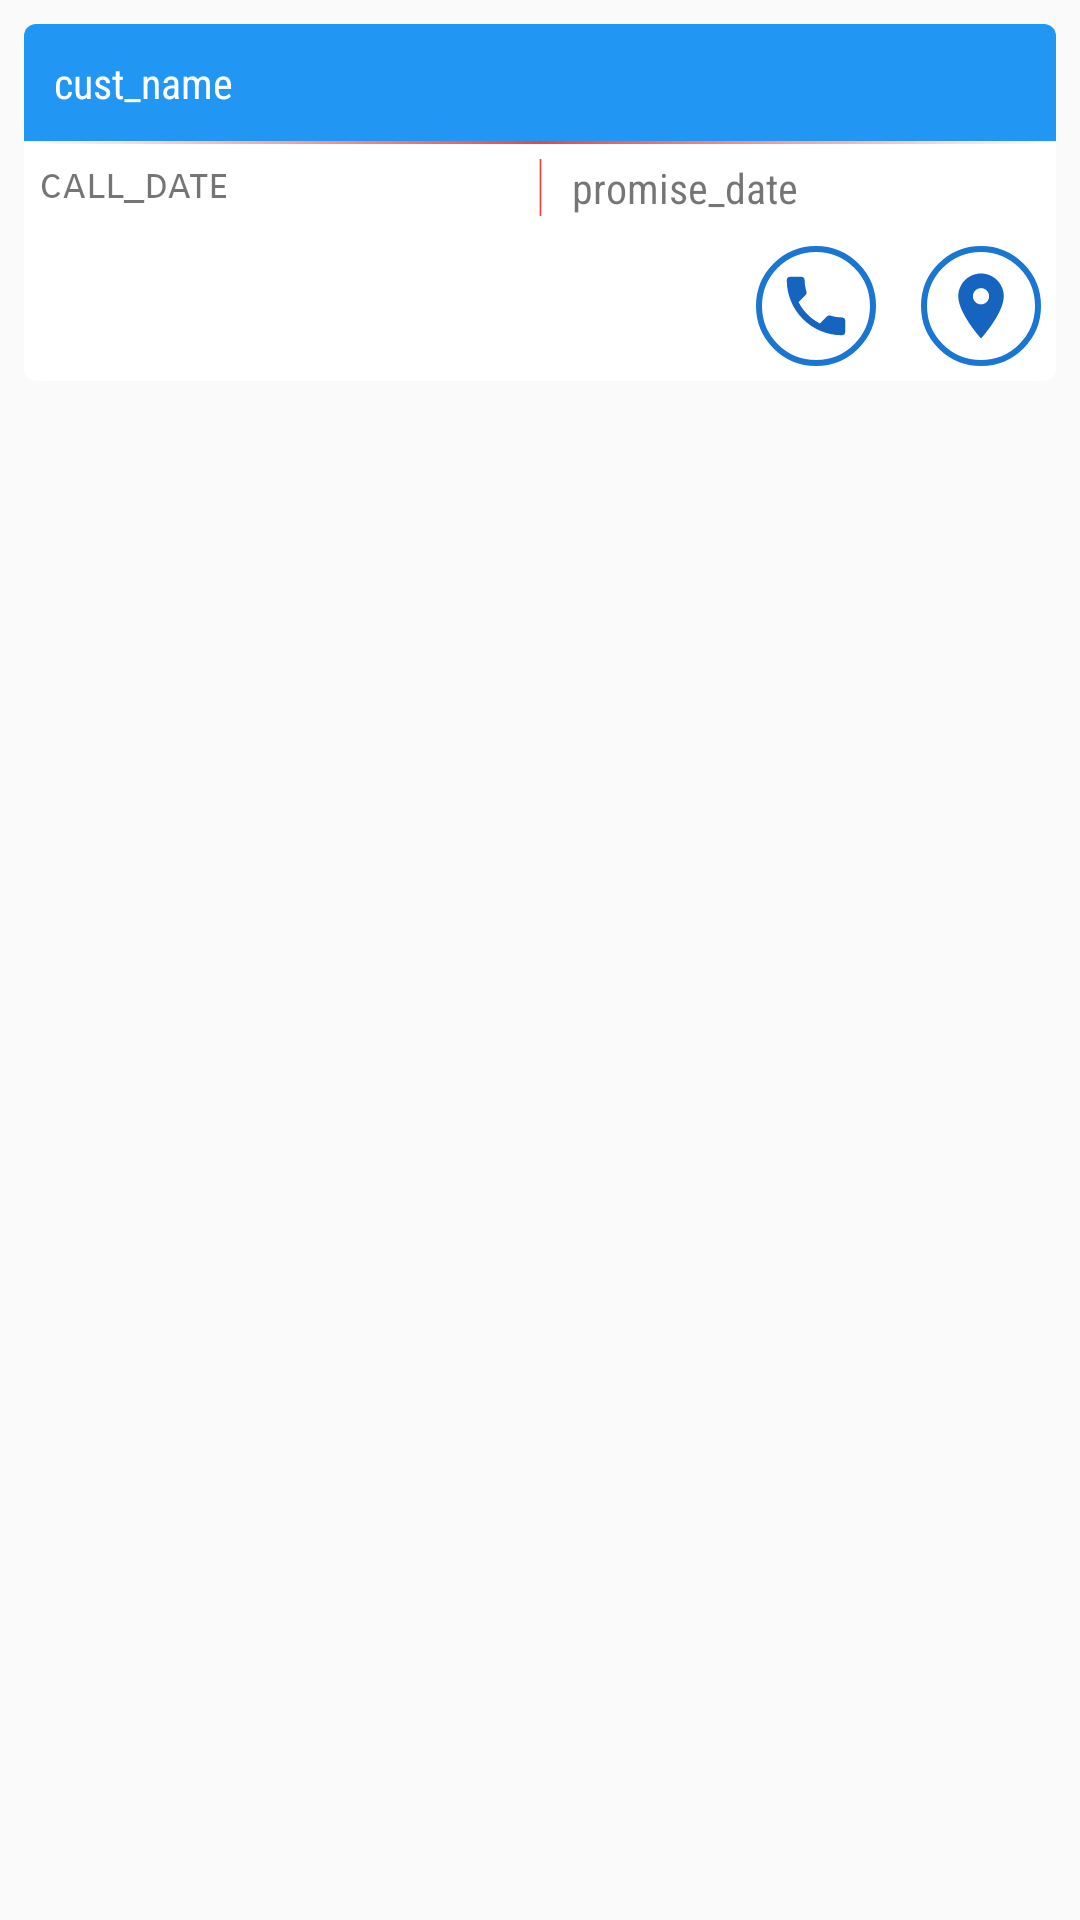

Named icons in this screenshot (1080×1920) and their centers, (x,y):
phone: (816,306)
place: (981,306)
